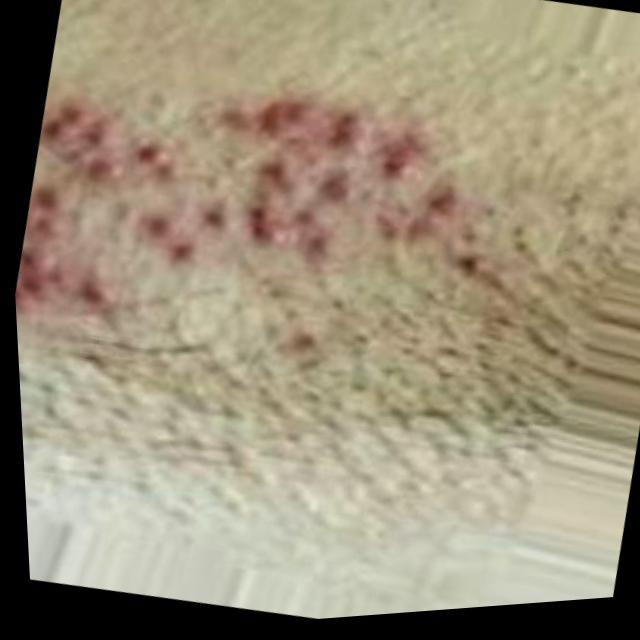Shingles: (3, 29, 503, 408)
